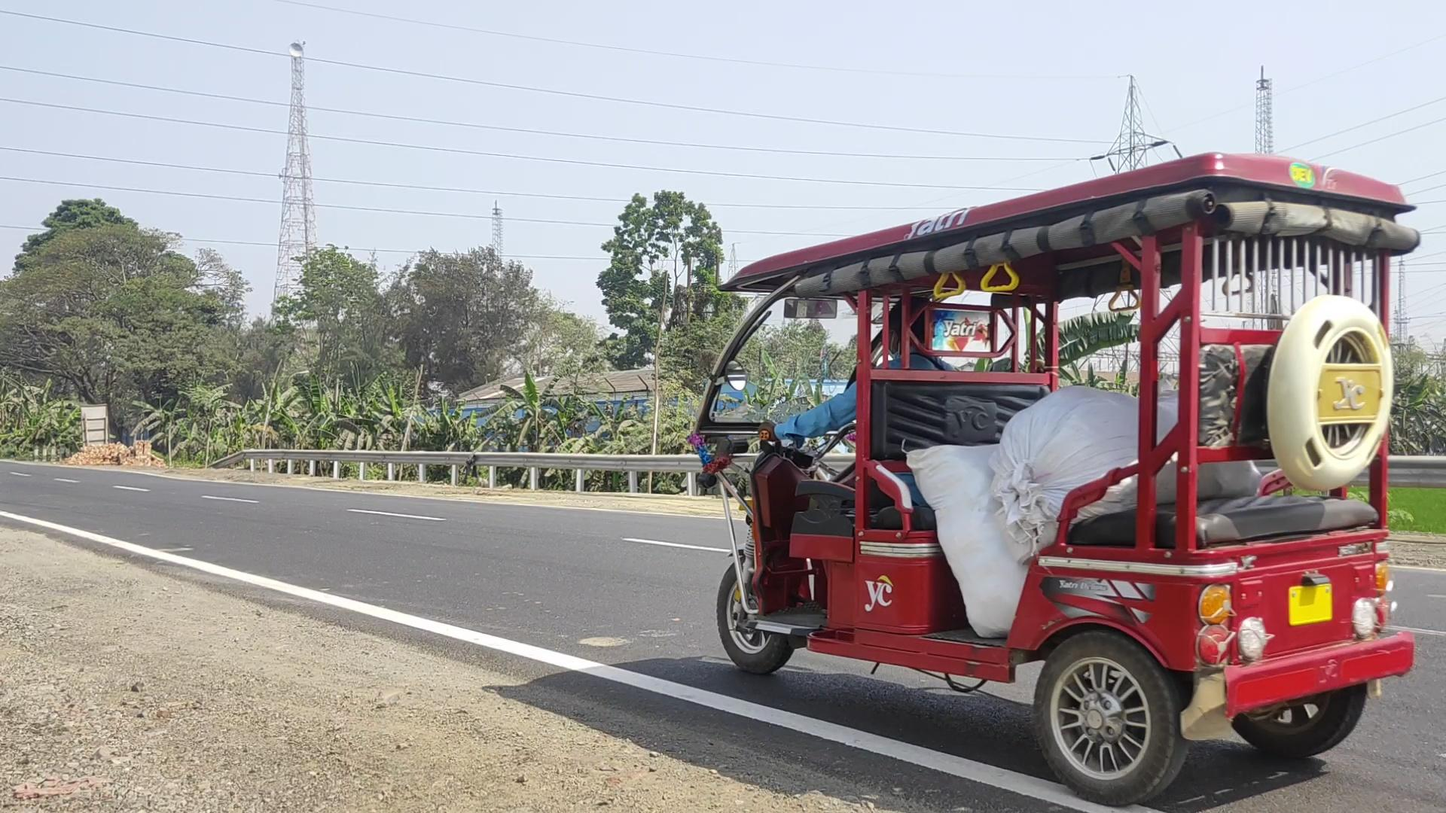Auto: (689, 152, 1421, 808)
